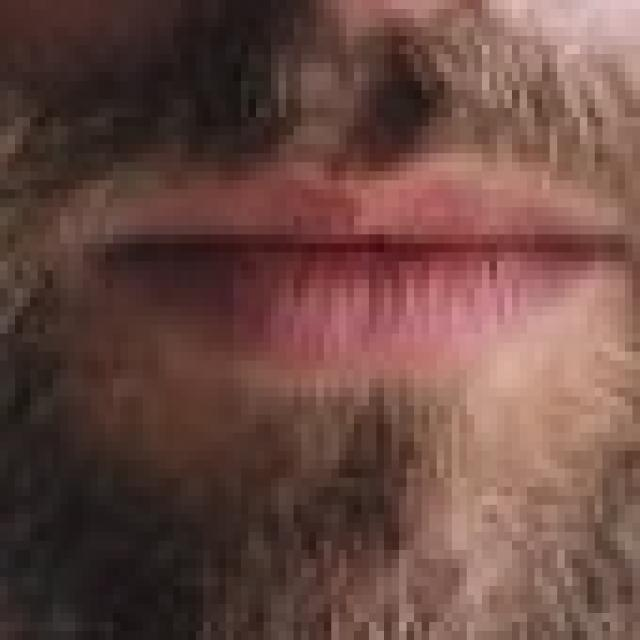closed-mouth: (75, 153, 632, 397)
